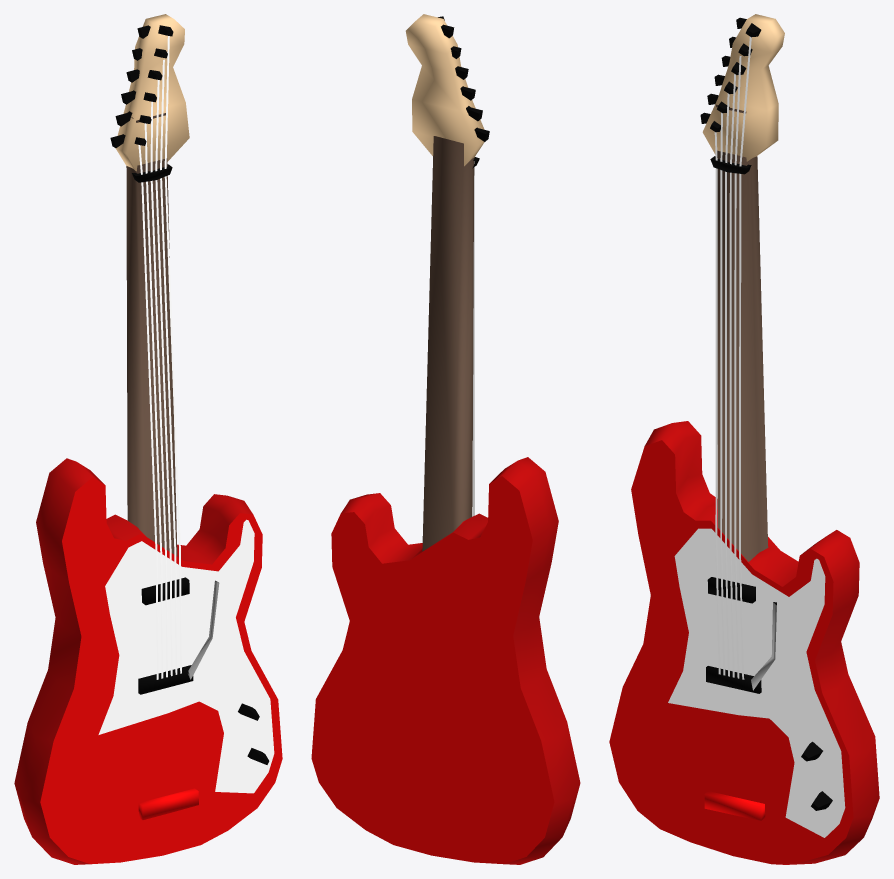
Rendered from GuitarElectricRed.glb.
3 views of the same model, side by side, from view 1: azimuth 30°, elevation 25°; view 2: azimuth 150°, elevation 25°; view 3: azimuth 330°, elevation 25° (orthographic).
Visible parts, largest first — view 1: GuitarElectricRed; view 2: GuitarElectricRed; view 3: GuitarElectricRed.
Part boxes in pixels (bbox=[...]): GuitarElectricRed: bbox=[14, 14, 282, 864]; GuitarElectricRed: bbox=[311, 14, 580, 864]; GuitarElectricRed: bbox=[609, 14, 879, 864].
Size of the model in its own units: 0.4159 by 1.31 by 0.1052.
1 material, 1 textured.
